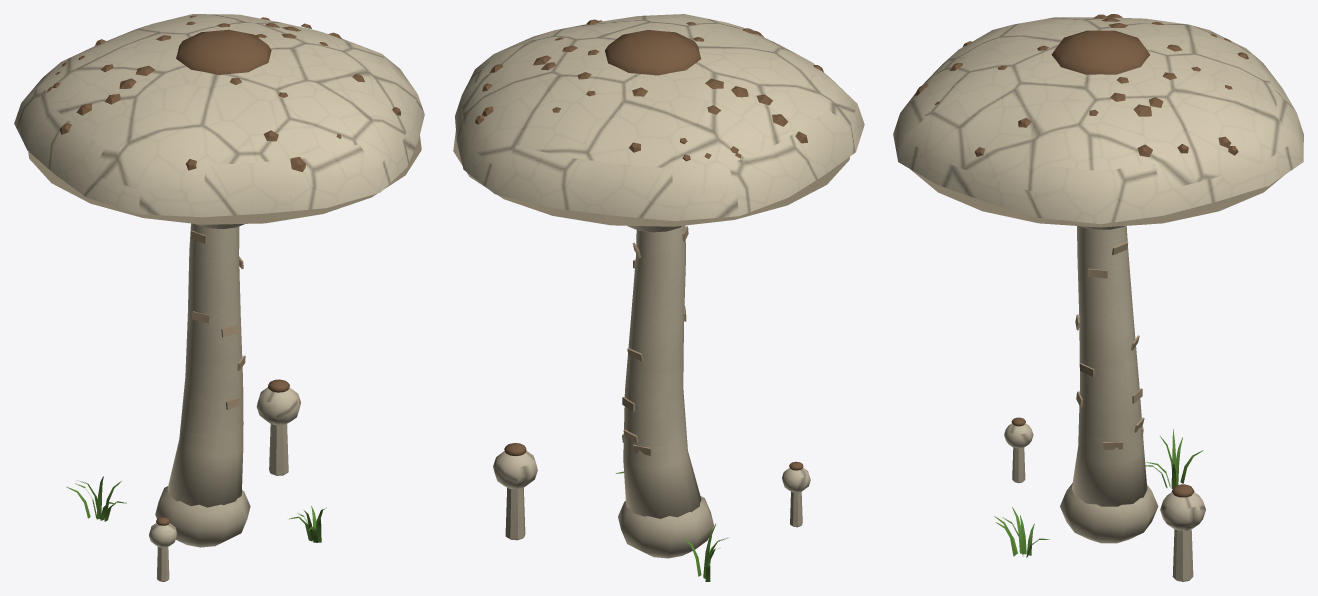
Rendered from giant_mushroom.glb.
3 renders of one model, left to right at view 1: azimuth 30°, elevation 25°; view 2: azimuth 150°, elevation 25°; view 3: azimuth 270°, elevation 25°, orthographic.
Parts seen in each view (by area): view 1: giant_mushroom; view 2: giant_mushroom; view 3: giant_mushroom.
Boxes of the visible parts, x1,y1,x2,y2 form: giant_mushroom: (14, 14, 424, 581); giant_mushroom: (453, 14, 864, 581); giant_mushroom: (893, 14, 1303, 581).
Bounding box in the file's own units: 2.52 × 3.41 × 2.5.
Materials: 6 (6 with a texture image).
